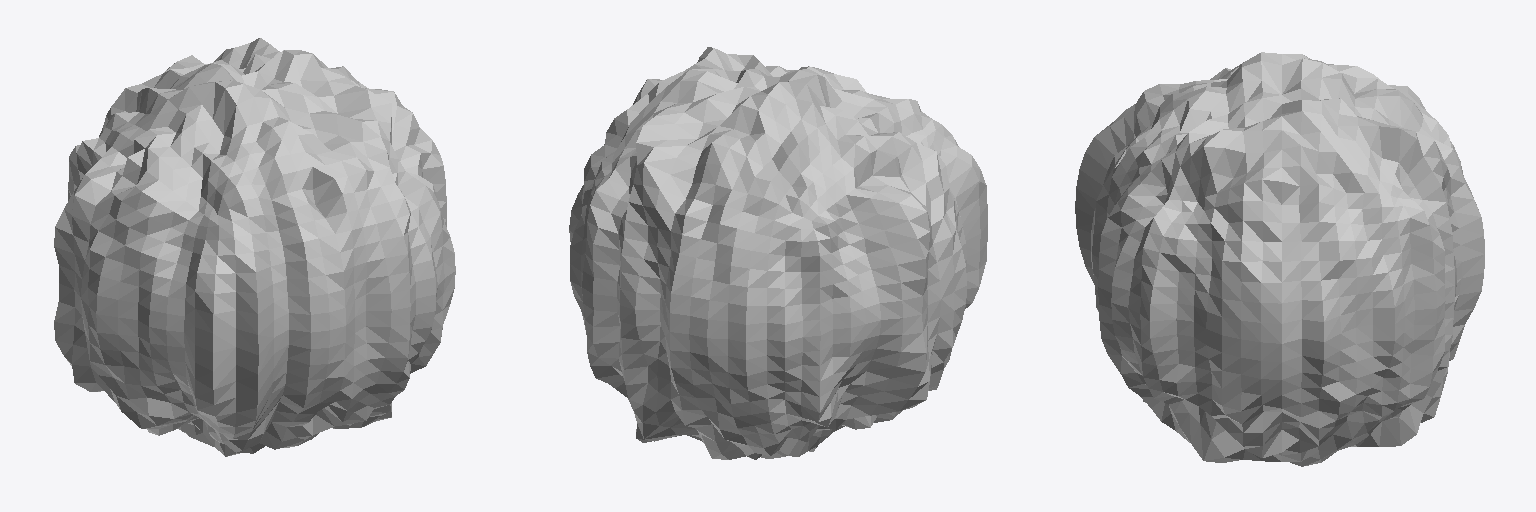
Rendered from asteroid57.obj.
3 views of the same model, side by side, from view 1: azimuth 30°, elevation 25°; view 2: azimuth 150°, elevation 25°; view 3: azimuth 270°, elevation 25° (orthographic).
Visible parts, largest first — view 1: Cube_Cube.002; view 2: Cube_Cube.002; view 3: Cube_Cube.002.
Boxes of the visible parts, x1=… form: Cube_Cube.002: x1=54, y1=38, x2=455, y2=456; Cube_Cube.002: x1=569, y1=47, x2=987, y2=459; Cube_Cube.002: x1=1075, y1=52, x2=1484, y2=466.
Bounding box in the file's own units: 1.82 × 1.81 × 1.79.